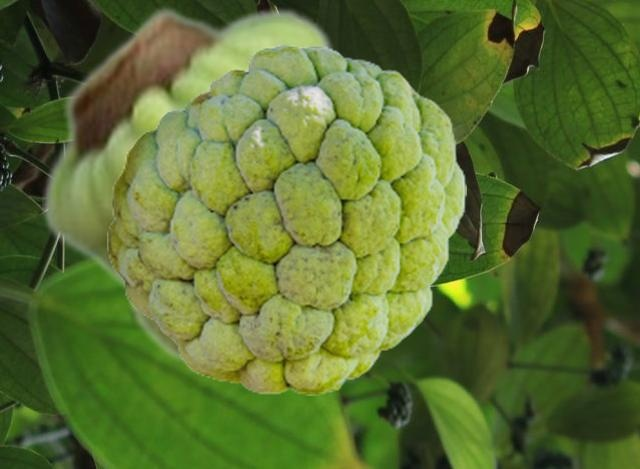atis: (107, 45, 465, 394), (42, 4, 338, 390)
